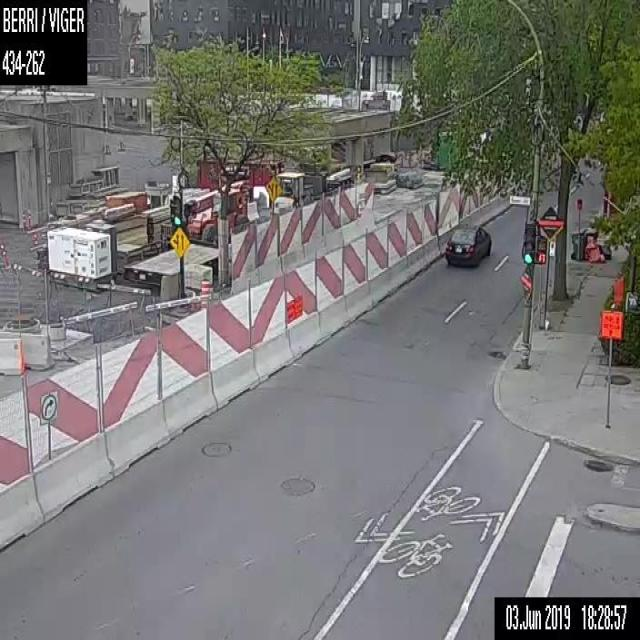construction: (0, 82, 569, 550), (599, 307, 624, 429), (200, 277, 210, 308)
vehicle: (444, 220, 492, 267)
